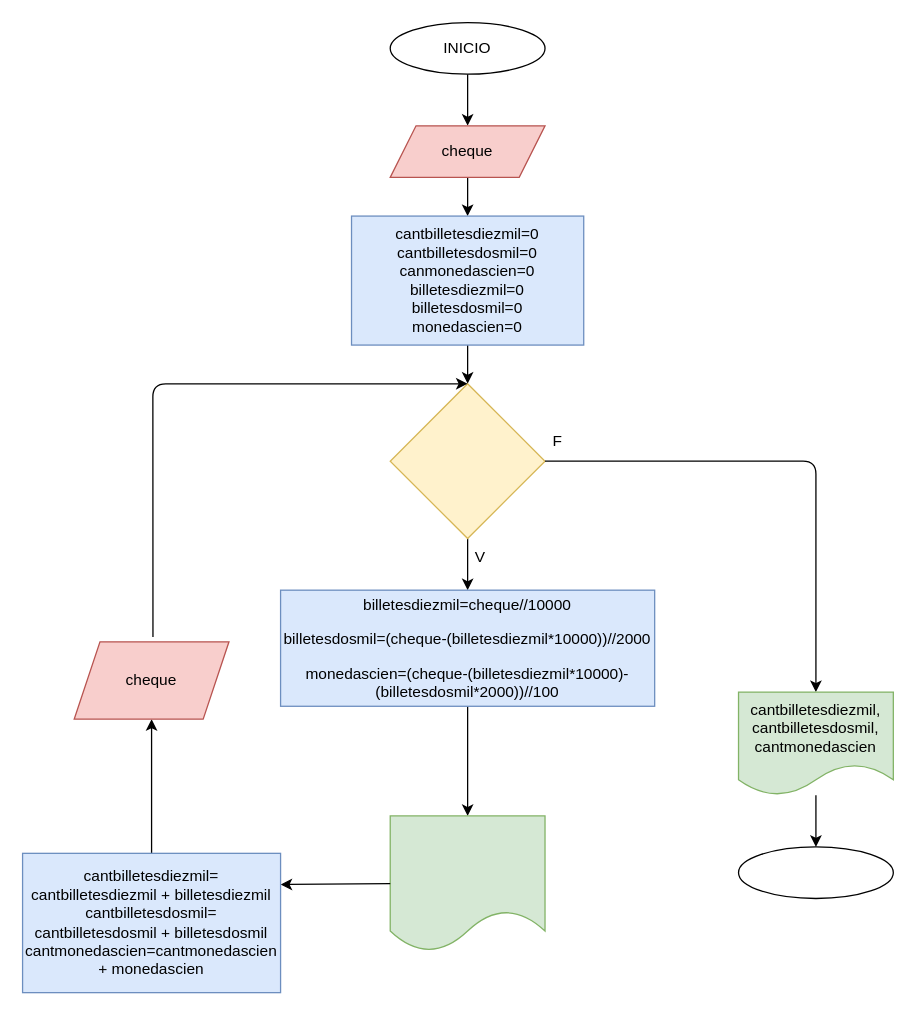
This 916x1015 diagram has some shape labels left out. The centre of each missing label's shape, as x and y in pixels:
"cheque != 0" goes at (467,460).
"cheque, billetesdiezmil, billetesdosmil, monedascien" goes at (467,883).
"FIN" goes at (815,872).
